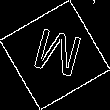M_S: (26, 25, 84, 85)
